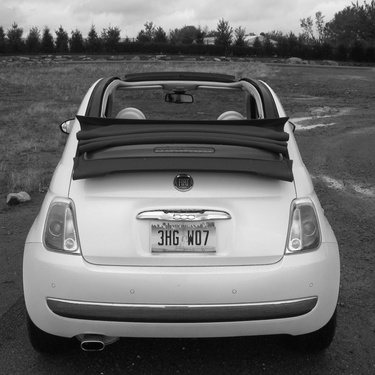car: (1, 71, 355, 355)
